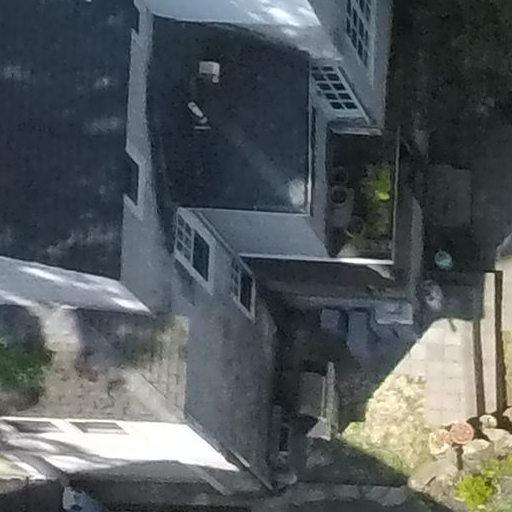barbecue: (287, 343, 354, 464)
container: (443, 415, 476, 448), (341, 211, 370, 237), (432, 247, 456, 273), (326, 183, 349, 208), (329, 164, 353, 184), (479, 414, 498, 435)
flower pot: (363, 156, 394, 208)
porch: (318, 106, 416, 321)
